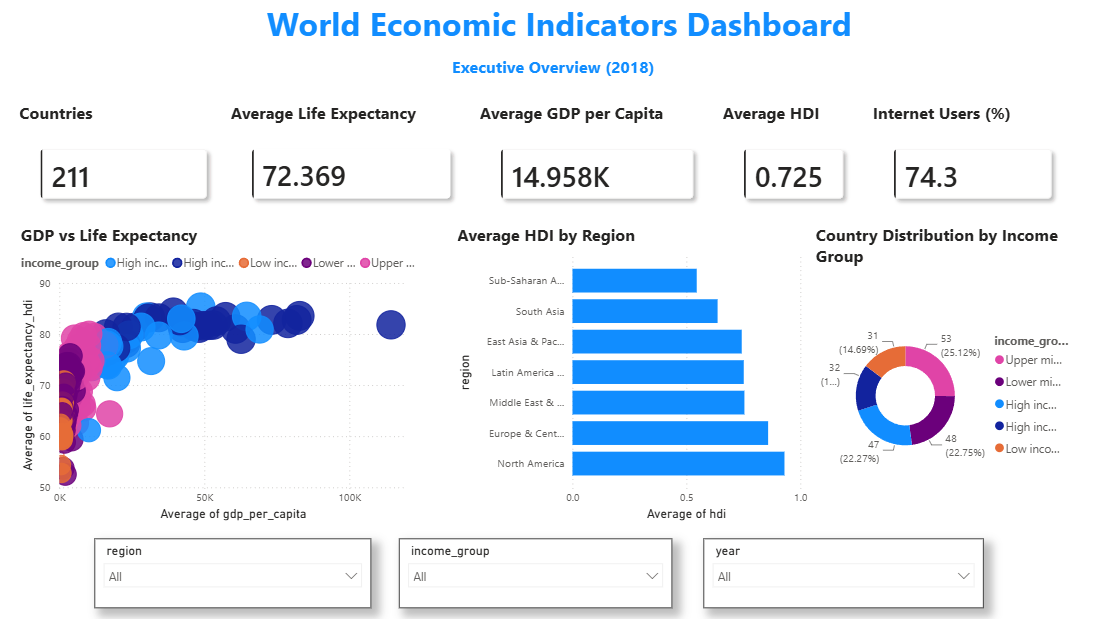

Layout of this report page (visuals, bound fields, positions):
{"tool":"powerbi","page":{"name":"Executive Overview","canvas":[1280,720],"ordinal":0},"visuals":[{"type":"textbox","box":[11.7,0,1268.6,62.8],"z":0},{"type":"textbox","box":[5.8,62.8,1268.6,38],"z":1000},{"type":"cardVisual","title":"Countries ","fields":{"Data":["Count(world_economic_indicators dim_country.country_name)"]},"box":[20.5,119.8,249.9,140.3],"z":2000},{"type":"cardVisual","title":"Average HDI","fields":{"Data":["Avg(world_economic_indicators fact_country_year.hdi)"]},"box":[828.7,119.8,172.5,140.3],"z":3000},{"type":"cardVisual","title":"Average GDP per Capita","fields":{"Data":["Avg(world_economic_indicators fact_country_year.gdp_per_capita)"]},"box":[549.5,119.8,279.1,140.3],"z":4000},{"type":"cardVisual","title":"Average Life Expectancy ","fields":{"Data":["Avg(world_economic_indicators fact_country_year.life_expectancy_hdi)"]},"box":[263.1,119.8,286.4,140.3],"z":5000},{"type":"cardVisual","title":"Internet Users (%)","fields":{"Data":["Avg(world_economic_indicators fact_country_year.internet_users)"]},"box":[1001.1,119.8,239.7,140.3],"z":6000},{"type":"scatterChart","title":"GDP vs Life Expectancy","fields":{"X":["Avg(world_economic_indicators fact_country_year.gdp_per_capita)"],"Y":["Avg(world_economic_indicators fact_country_year.life_expectancy_hdi)"],"Series":["world_economic_indicators dim_country.income_group"],"Size":["Avg(world_economic_indicators fact_country_year.hdi)"],"Category":["world_economic_indicators dim_country.country_name"]},"box":[22,260,468,346],"z":7000},{"type":"clusteredBarChart","title":"Average HDI by Region","fields":{"Category":["world_economic_indicators dim_country.region"],"Y":["Avg(world_economic_indicators fact_country_year.hdi)"]},"box":[524,260,412,346],"z":8000},{"type":"donutChart","title":"Country Distribution by Income Group","fields":{"Category":["world_economic_indicators dim_country.income_group"],"Y":["Count(world_economic_indicators dim_country.country_name)"]},"box":[936,260,304,346],"z":9000},{"type":"slicer","fields":{"Values":["world_economic_indicators dim_country.region"]},"box":[112,622,318,80],"z":10000},{"type":"slicer","fields":{"Values":["world_economic_indicators dim_country.income_group"]},"box":[462,622,314,80],"z":11000},{"type":"slicer","title":"Year","fields":{"Values":["world_economic_indicators fact_country_year.year"]},"box":[812,622,322,80],"z":12000}]}

Visuals, with their boxes in screenshot pixels (x1, y1, x2, y2), scaled from the page's 1280x720 canvas onto the 1108x619 screenshot:
textbox: 10 0 1107 54
textbox: 5 54 1103 87
"Countries " cardVisual: 18 103 234 224
"Average HDI" cardVisual: 717 103 867 224
"Average GDP per Capita" cardVisual: 476 103 717 224
"Average Life Expectancy " cardVisual: 228 103 476 224
"Internet Users (%)" cardVisual: 867 103 1074 224
"GDP vs Life Expectancy" scatterChart: 19 224 424 521
"Average HDI by Region" clusteredBarChart: 454 224 810 521
"Country Distribution by Income Group" donutChart: 810 224 1073 521
slicer - world_economic_indicators dim_country.region: 97 535 372 604
slicer - world_economic_indicators dim_country.income_group: 400 535 672 604
"Year" slicer: 703 535 982 604
